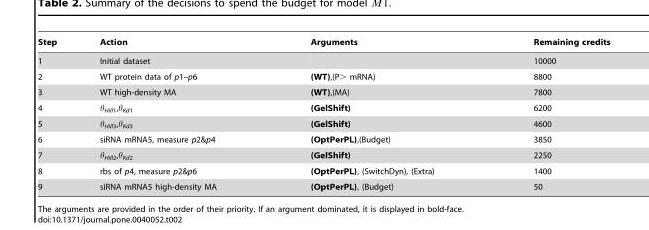table: (37, 37, 609, 190)
table column: (262, 37, 483, 190), (77, 37, 262, 190), (483, 37, 609, 190), (37, 37, 77, 190)
table column header: (37, 37, 609, 51)
table row: (37, 51, 609, 68), (37, 99, 609, 116), (37, 68, 609, 84), (37, 131, 609, 147), (37, 147, 609, 163), (37, 84, 609, 99), (37, 116, 609, 131), (37, 163, 609, 178), (37, 37, 609, 51), (37, 178, 609, 190)
